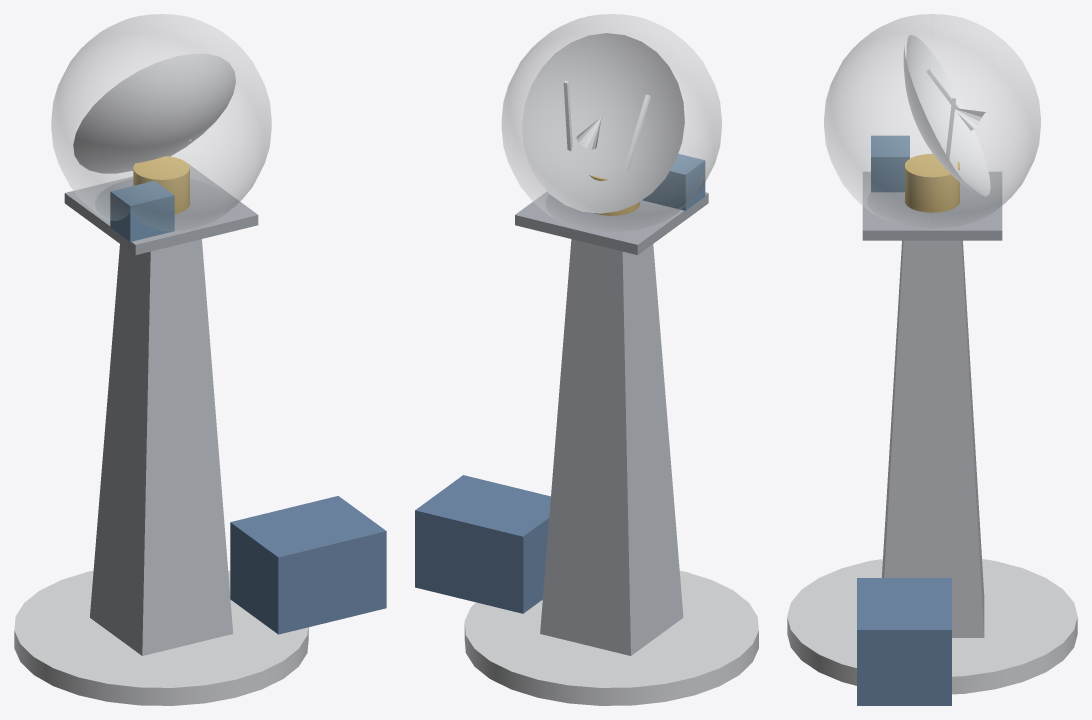
The model's file is doppler-radar.glb.
3 renders of one model, left to right at view 1: azimuth 30°, elevation 25°; view 2: azimuth 150°, elevation 25°; view 3: azimuth 270°, elevation 25°, orthographic.
Visible parts, largest first — view 1: tower, radome, base, controlUnit, antenna, platform, receiver, rotator; view 2: tower, radome, antenna, base, controlUnit, platform, receiver; view 3: radome, tower, base, controlUnit, antenna, platform, rotator, receiver.
Part boxes in pixels (left/top/right/bottom): tower: left=90, top=239, right=233, bottom=655; radome: left=51, top=14, right=271, bottom=231; base: left=14, top=570, right=308, bottom=705; controlUnit: left=230, top=496, right=386, bottom=634; antenna: left=73, top=53, right=235, bottom=173; platform: left=64, top=164, right=258, bottom=255; receiver: left=110, top=180, right=174, bottom=241; rotator: left=133, top=156, right=189, bottom=214; tower: left=540, top=239, right=683, bottom=655; radome: left=501, top=14, right=721, bottom=231; antenna: left=522, top=33, right=684, bottom=213; base: left=464, top=571, right=758, bottom=705; controlUnit: left=415, top=475, right=550, bottom=613; platform: left=515, top=191, right=708, bottom=255; receiver: left=642, top=154, right=705, bottom=210; radome: left=824, top=14, right=1040, bottom=228; tower: left=882, top=240, right=984, bottom=637; base: left=787, top=559, right=1077, bottom=694; controlUnit: left=857, top=578, right=951, bottom=705; antenna: left=903, top=35, right=990, bottom=197; platform: left=862, top=171, right=1002, bottom=240; rotator: left=905, top=153, right=959, bottom=212; receiver: left=871, top=135, right=909, bottom=192.
Bounding box in the file's own units: 0.64 × 1.21 × 0.52.
